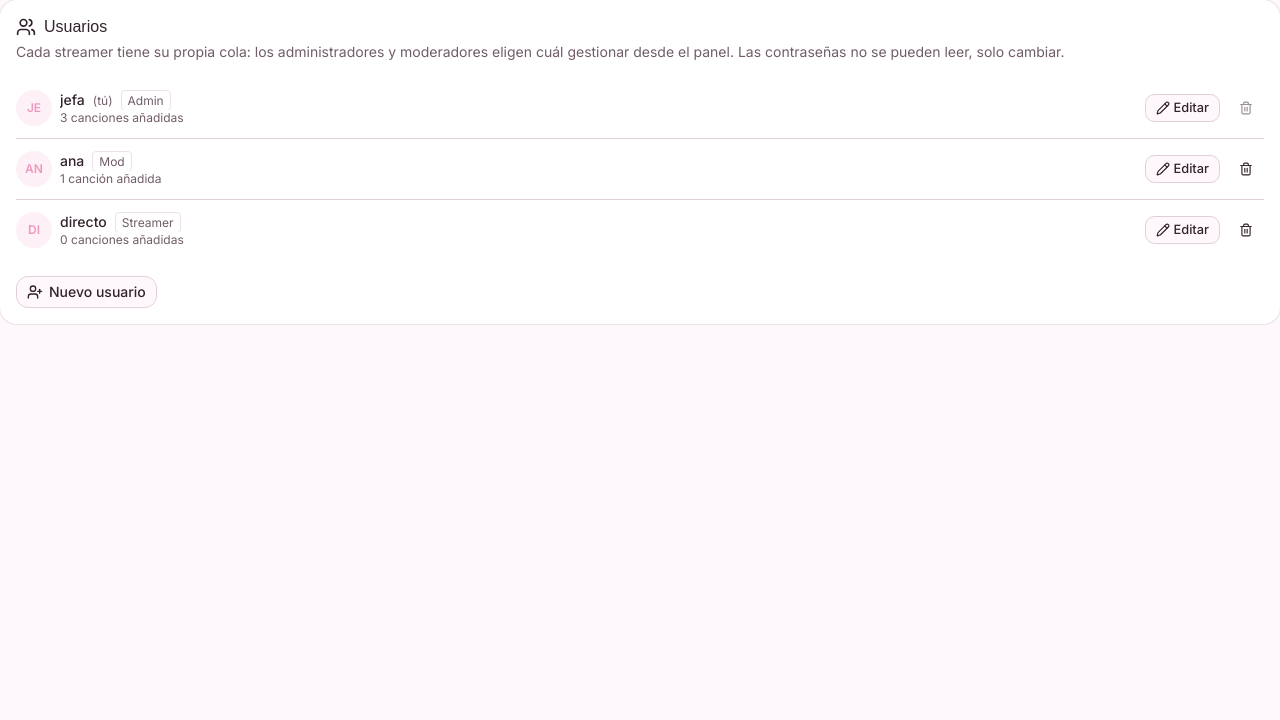
gestión de usuarios › cancelar la confirmación no elimina nada
The width and height of the screenshot is (1280, 720).
Expected: the text "jefa" is shown, [60,91,85,108]
Click the button named "Eliminar ana" in the row of "ana": click(1246, 169) [1228,155,1264,183]
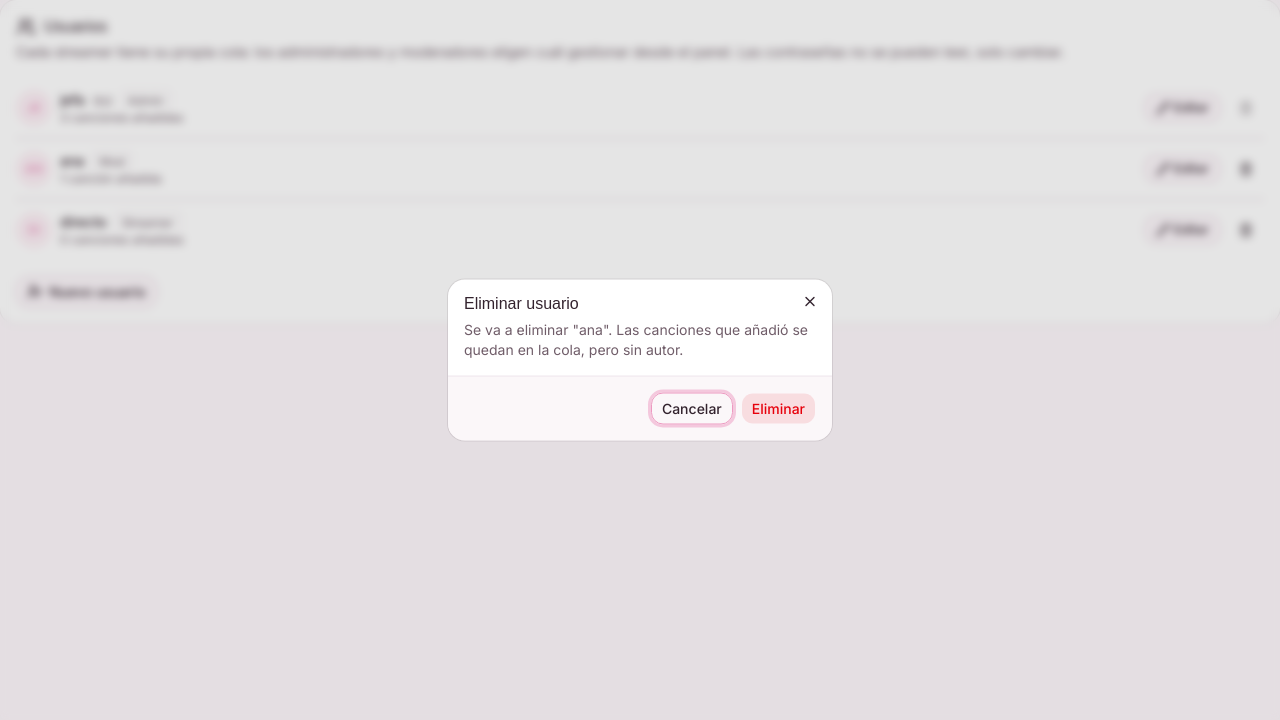
Expected: the dialog does not show "su propia cola y su historial", [448,280,832,440]
Click the button "Cancelar": click(692, 408) [651,392,733,424]
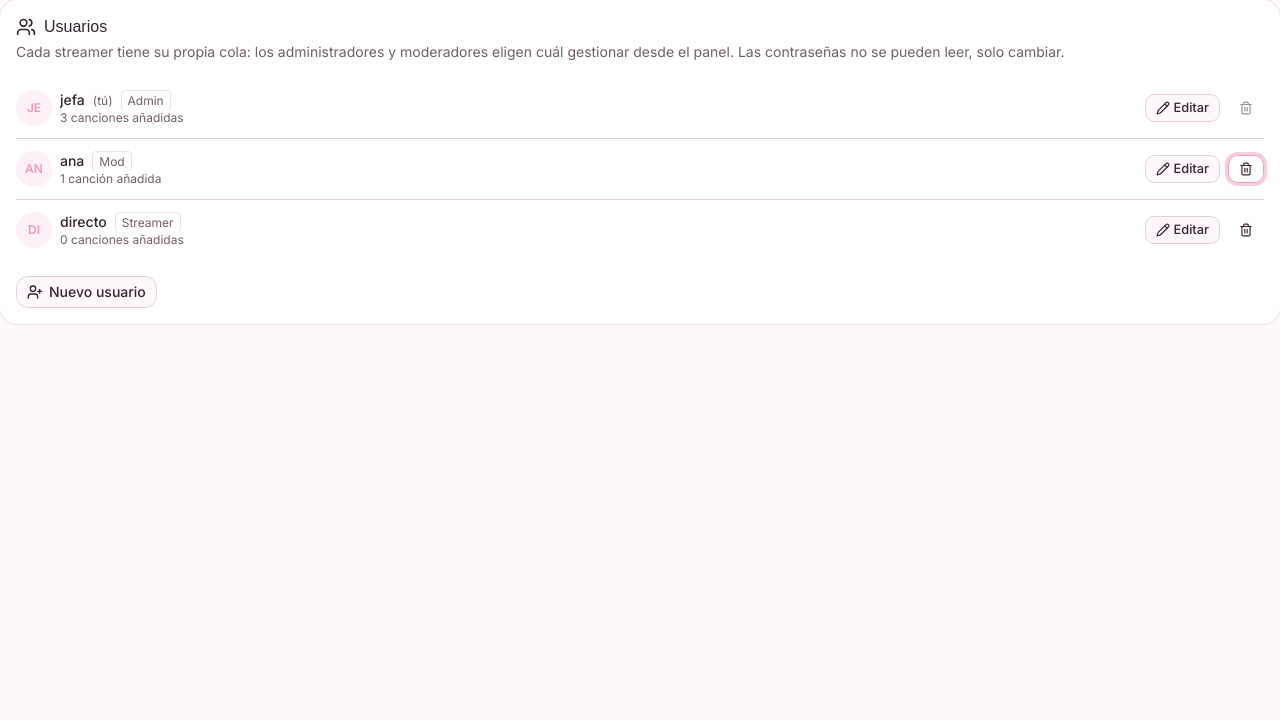
Now the dialog is gone
